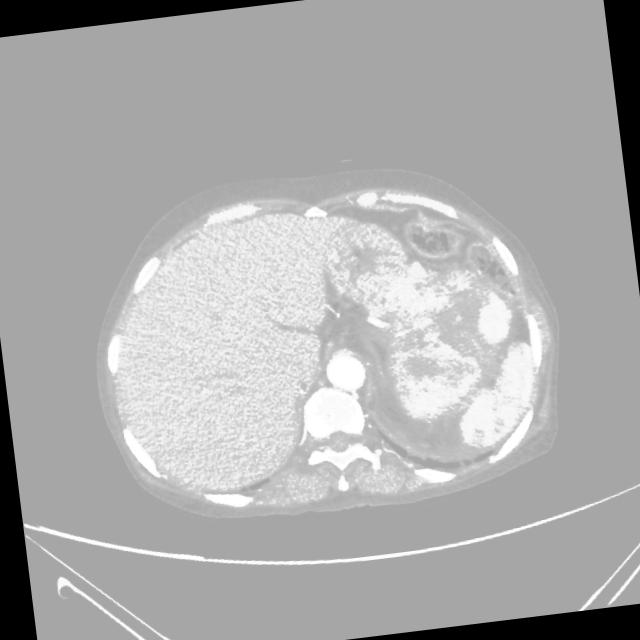TUMOR: (420, 287, 594, 482)
